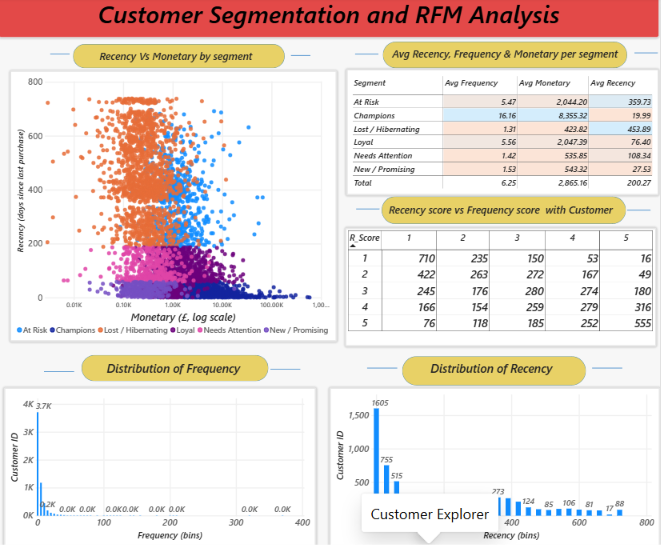

What the dashboard file says about the page in this screenshot:
{"tool":"powerbi","page":{"name":"RFM Behavior ","canvas":[2400,2000],"ordinal":1},"visuals":[{"type":"textbox","box":[0,0,2395.1,147],"z":0},{"type":"shape","box":[1394.5,163.7,887.7,96.7],"z":1000},{"type":"textbox","box":[1406.3,180.2,861.4,57.1],"z":2000},{"type":"shape","box":[1293.6,182.5,85,47],"z":3000},{"type":"shape","box":[2305.5,178.6,85,47],"z":4000},{"type":"shape","box":[1464.4,1307.3,667.7,106.6],"z":5000},{"type":"shape","box":[268.1,171.4,769.1,88],"z":6000},{"type":"textbox","box":[1509.3,1318.5,583.5,78.6],"z":7000},{"type":"textbox","box":[307.6,189,668,52.7],"z":8000},{"type":"shape","box":[1335.4,1318.5,110,60],"z":9000},{"type":"shape","box":[1059.5,178.6,71.2,65.9],"z":10000},{"type":"shape","box":[182.5,178.6,71.2,55.4],"z":11000},{"type":"scatterChart","fields":{"Series":["Customers.Segment"],"X":["Customers.Monetary"],"Y":["Customers.Recency"]},"box":[39.7,269.8,1186.5,984.1],"z":12000},{"type":"tableEx","fields":{"Values":["Customers.Segment","Avg(Customers.Frequency)","Avg(Customers.Monetary)","Avg(Customers.Recency)"]},"box":[1261.3,263.7,1133.8,457],"z":13000},{"type":"pivotTable","fields":{"Columns":["Customers.F_Score"],"Rows":["Customers.R_Score"],"Values":["CountNonNull(Customers.Customer ID)"]},"box":[1256.9,839.4,1129.4,430.7],"z":14000},{"type":"clusteredColumnChart","fields":{"Category":["Customers.Recency (bins)"],"Y":["CountNonNull(Customers.Customer ID)"]},"box":[1200.7,1419.5,1200.7,577.9],"z":15000},{"type":"shape","box":[1297.6,746,85,47],"z":16000},{"type":"shape","box":[2281.7,750,85,47],"z":17000},{"type":"shape","box":[1388.7,726.3,887.7,100],"z":18000},{"type":"clusteredColumnChart","fields":{"Category":["Customers.Frequency (bins)"],"Y":["CountNonNull(Customers.Customer ID)"]},"box":[16.8,1419.5,1133.4,577.9],"z":19000},{"type":"textbox","box":[1415.1,747.1,826.2,57.1],"z":20000},{"type":"shape","box":[2154.7,1317.4,110,60],"z":21000},{"type":"shape","box":[297.4,1301.7,678.9,95.4],"z":22000},{"type":"textbox","box":[353.5,1318.5,572.3,61.7],"z":23000},{"type":"shape","box":[162.7,1329.7,110,60],"z":24000},{"type":"shape","box":[984.1,1321.4,110,60],"z":25000}]}

Visuals, with their boxes in screenshot pixels (x1, y1, x2, y2), scaled from the page's 2400x2000 canvas onto the 661x545 screenshot:
textbox: left=0, top=0, right=660, bottom=40
shape: left=384, top=45, right=629, bottom=71
textbox: left=387, top=49, right=625, bottom=65
shape: left=356, top=50, right=380, bottom=63
shape: left=635, top=49, right=658, bottom=61
shape: left=403, top=356, right=587, bottom=385
shape: left=74, top=47, right=286, bottom=71
textbox: left=416, top=359, right=576, bottom=381
textbox: left=85, top=52, right=269, bottom=66
shape: left=368, top=359, right=398, bottom=376
shape: left=292, top=49, right=311, bottom=67
shape: left=50, top=49, right=70, bottom=64
scatterChart - Customers.Segment x Customers.Monetary: left=11, top=74, right=338, bottom=342
tableEx - Customers.Segment x Avg(Customers.Frequency): left=347, top=72, right=660, bottom=196
pivotTable - Customers.F_Score x Customers.R_Score: left=346, top=229, right=657, bottom=346
clusteredColumnChart - Customers.Recency (bins) x CountNonNull(Customers.Customer ID): left=331, top=387, right=660, bottom=544
shape: left=357, top=203, right=381, bottom=216
shape: left=628, top=204, right=652, bottom=217
shape: left=382, top=198, right=627, bottom=225
clusteredColumnChart - Customers.Frequency (bins) x CountNonNull(Customers.Customer ID): left=5, top=387, right=317, bottom=544
textbox: left=390, top=204, right=617, bottom=219
shape: left=593, top=359, right=624, bottom=375
shape: left=82, top=355, right=269, bottom=381
textbox: left=97, top=359, right=255, bottom=376
shape: left=45, top=362, right=75, bottom=379
shape: left=271, top=360, right=301, bottom=376
